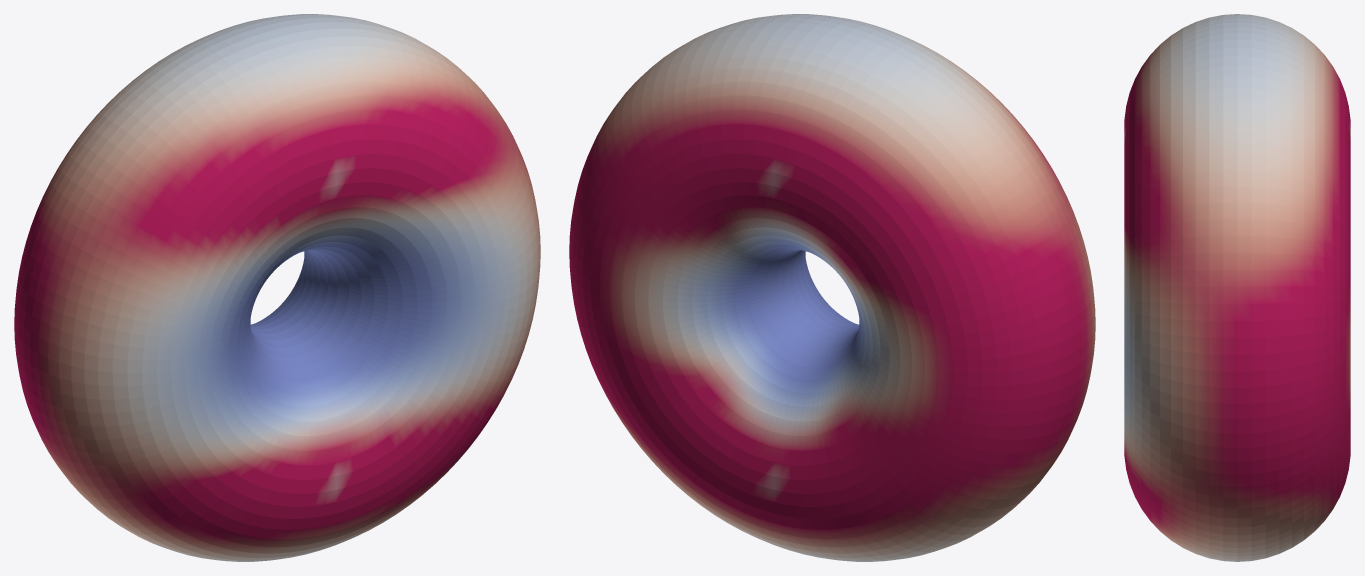
3 renders of one model, left to right at view 1: azimuth 30°, elevation 25°; view 2: azimuth 150°, elevation 25°; view 3: azimuth 270°, elevation 25°, orthographic. The views are drawn at different scales.
Parts seen in each view (by area): view 1: world; view 2: world; view 3: world.
Boxes of the visible parts, x1,y1,x2,y2 form: world: (14,14,540,561); world: (569,14,1095,561); world: (1124,14,1350,561).
Bounding box in the file's own units: 21.6 × 21.6 × 8.92.
